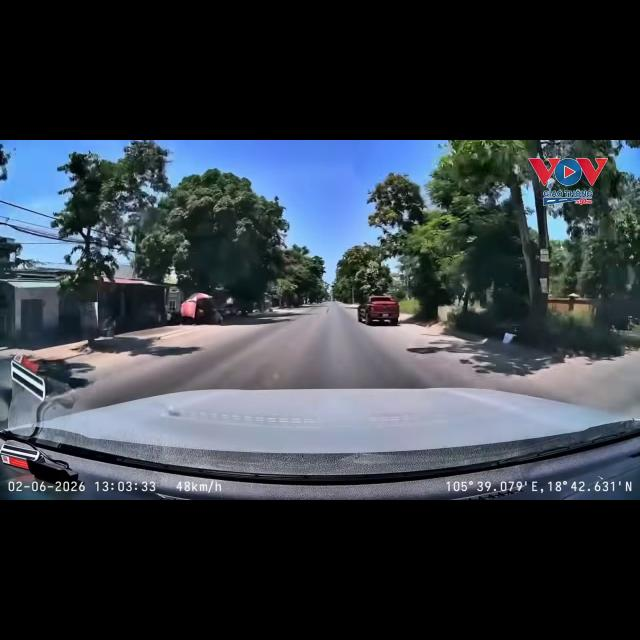car: (352, 298, 404, 328)
